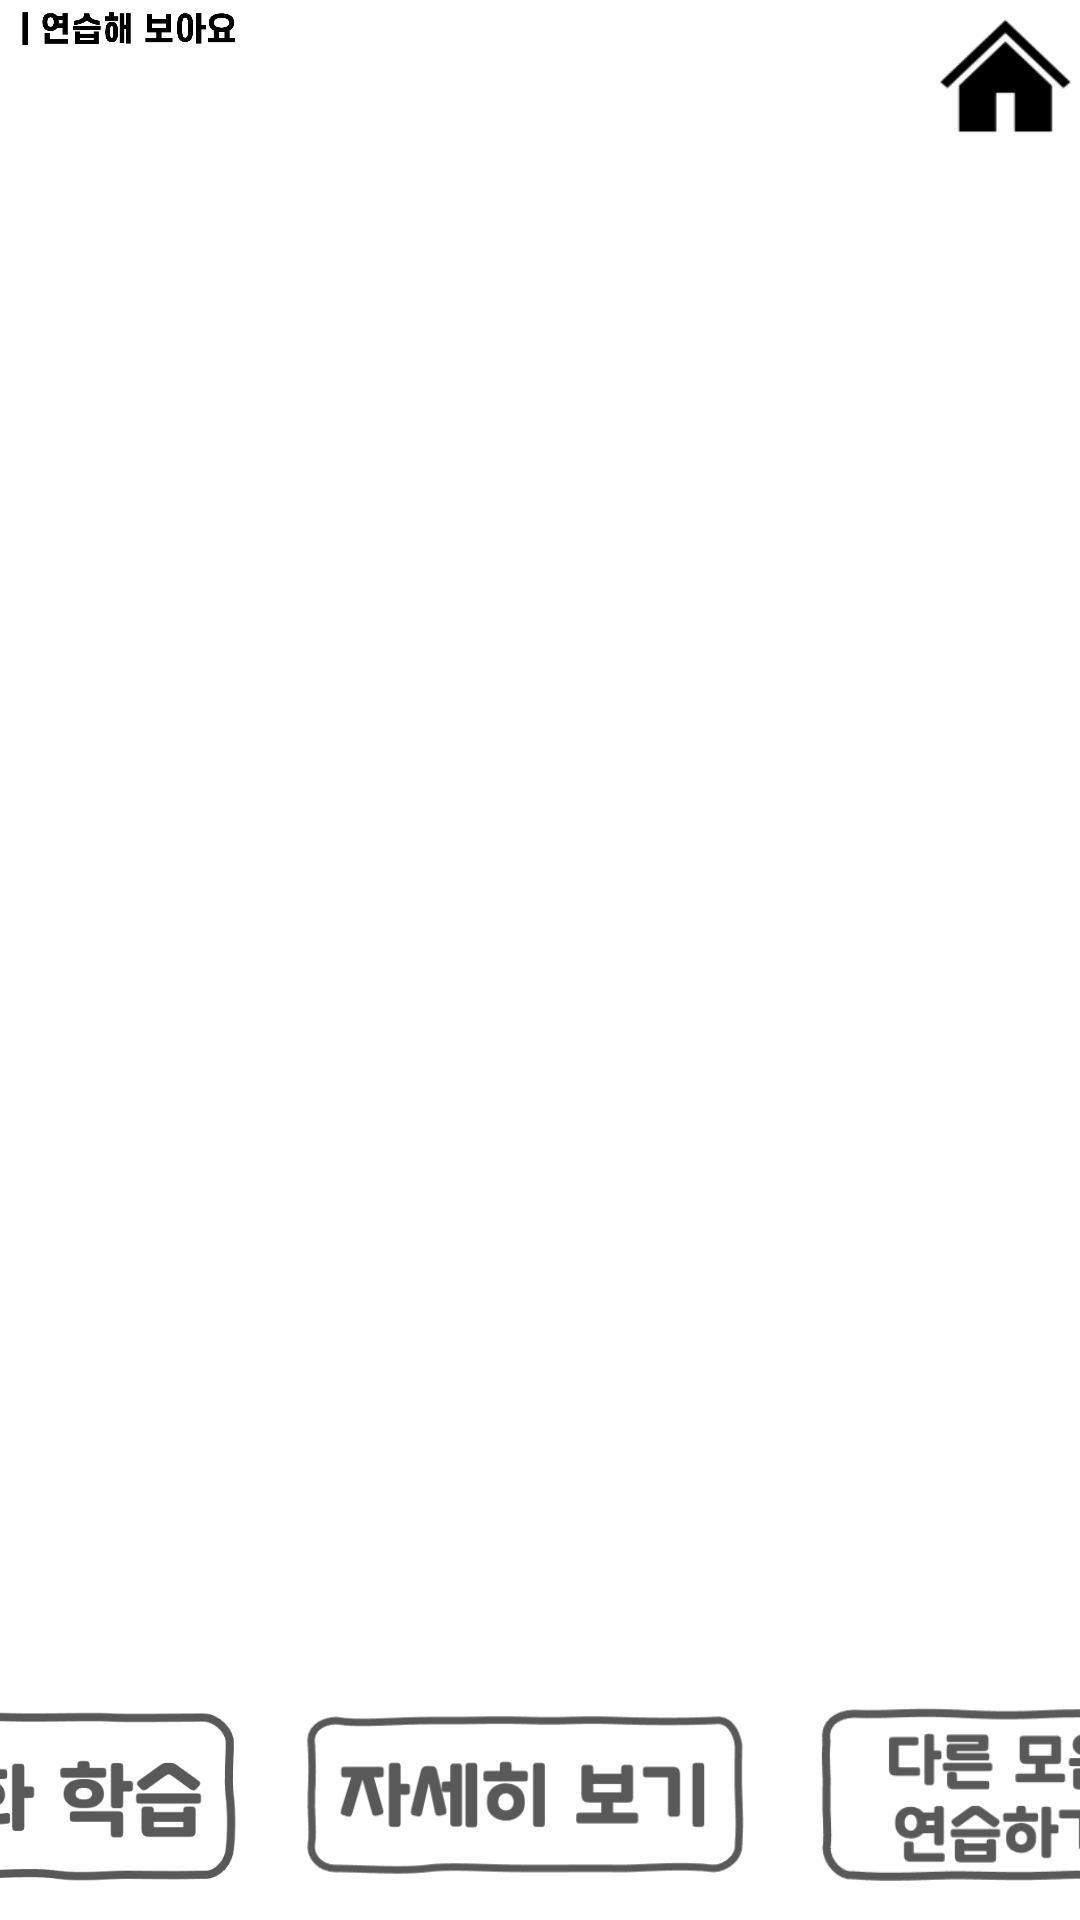

Screen size 1080×1920. Icon name, then its box in pixels as (x1, y1, x2, y2):
home: (940, 20, 1071, 132)
